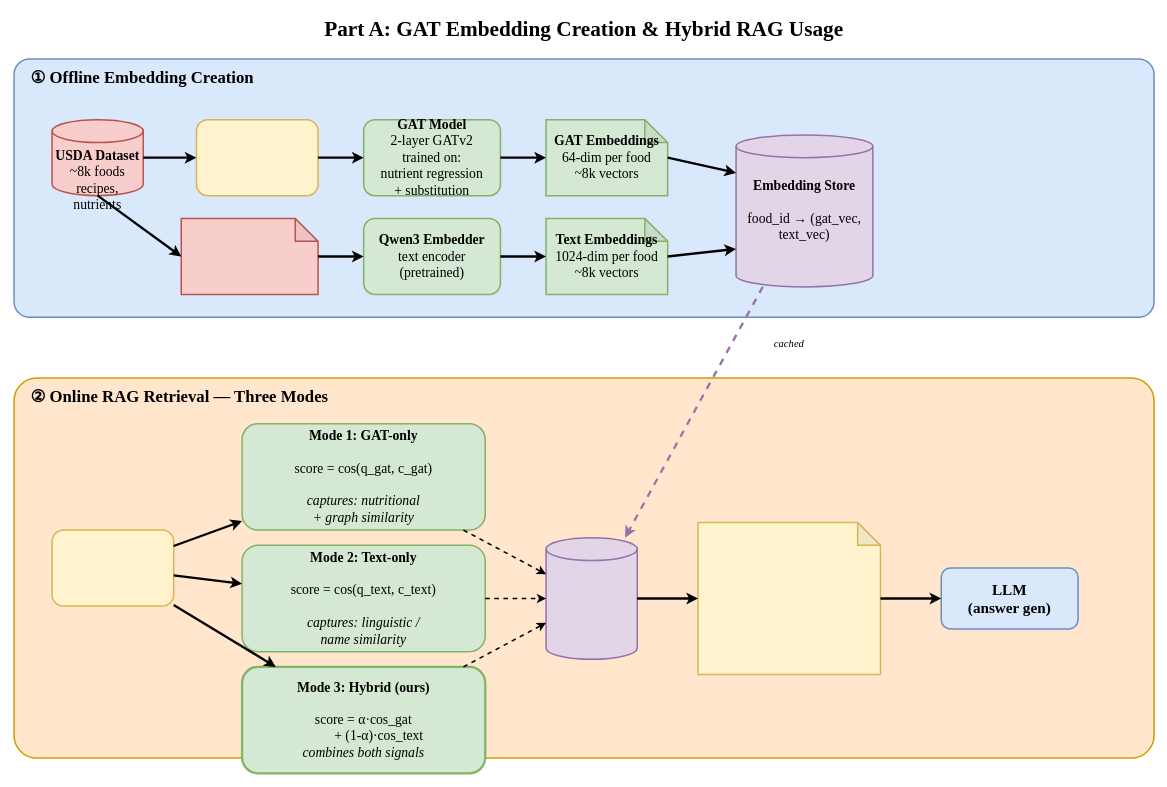
Some shapes in this 1167 by 787 pixel diagram are drawn without their labels. The box of each missing label's shape, as (x1, y1, x2, y2) in pixels:
Embedding Store (from above): (545, 537, 638, 660)
Food Descriptions e.g. "Milk, whole, 3.25% milkfat...": (180, 217, 318, 295)
Knowledge Graph food + nutrient + recipe + tag G = (V, E): (195, 119, 318, 196)
Top-K Retrieved Foods 1. skim milk 2. soy milk 3. almond milk ...: (697, 521, 881, 675)
User Query "What can I substitute for whole milk?": (51, 529, 174, 606)
